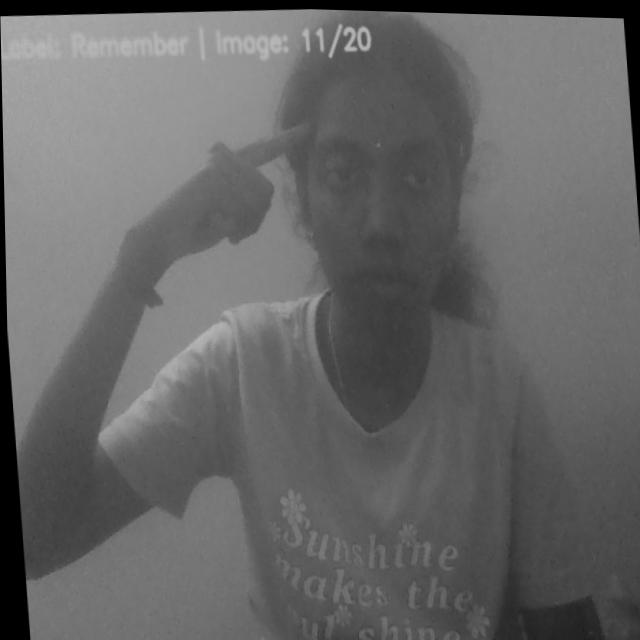Remember: (110, 109, 326, 286)
